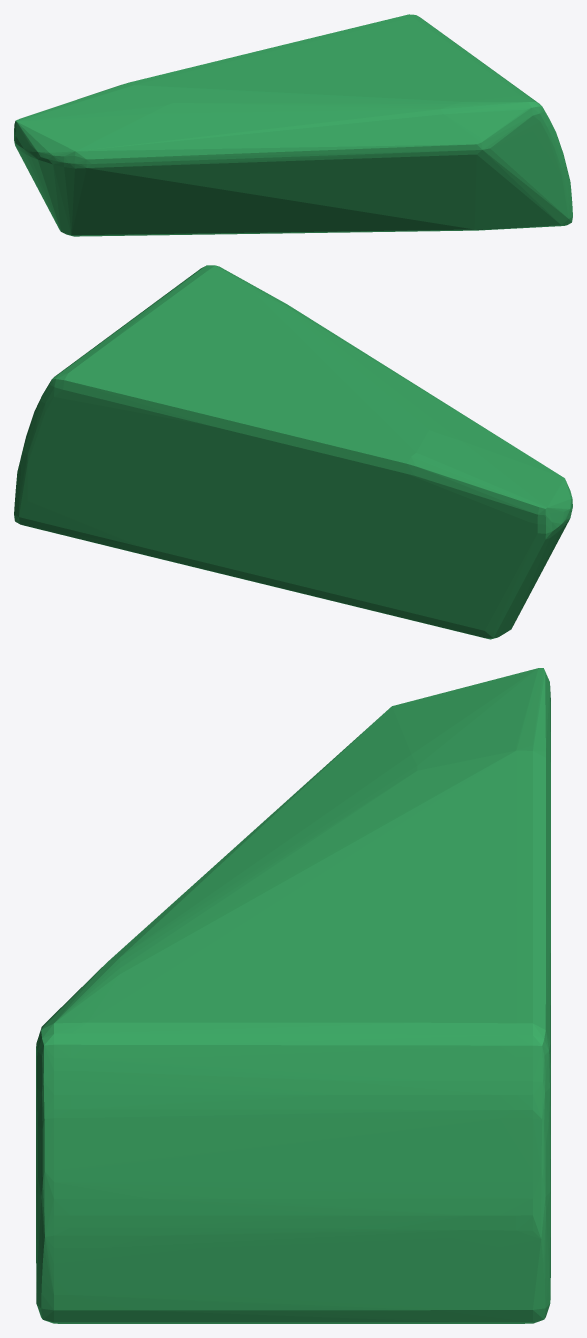
Rendered from left_shoulder_roll_link_part_10.obj.
3 renders of one model, top to bottom at view 1: azimuth 30°, elevation 25°; view 2: azimuth 150°, elevation 25°; view 3: azimuth 270°, elevation 25°, orthographic. The views are drawn at different scales.
Size of the model in its own units: 0.088 by 0.0257 by 0.045.
